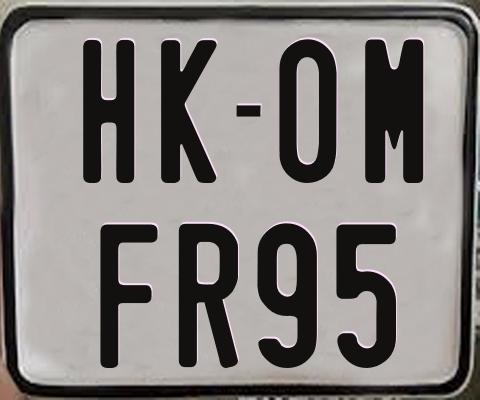0: (277, 39, 336, 188)
5: (333, 224, 398, 369)
9: (257, 222, 322, 373)
F: (98, 224, 157, 374)
H: (83, 37, 140, 186)
K: (161, 38, 220, 186)
M: (364, 39, 422, 183)
R: (177, 224, 240, 371)
